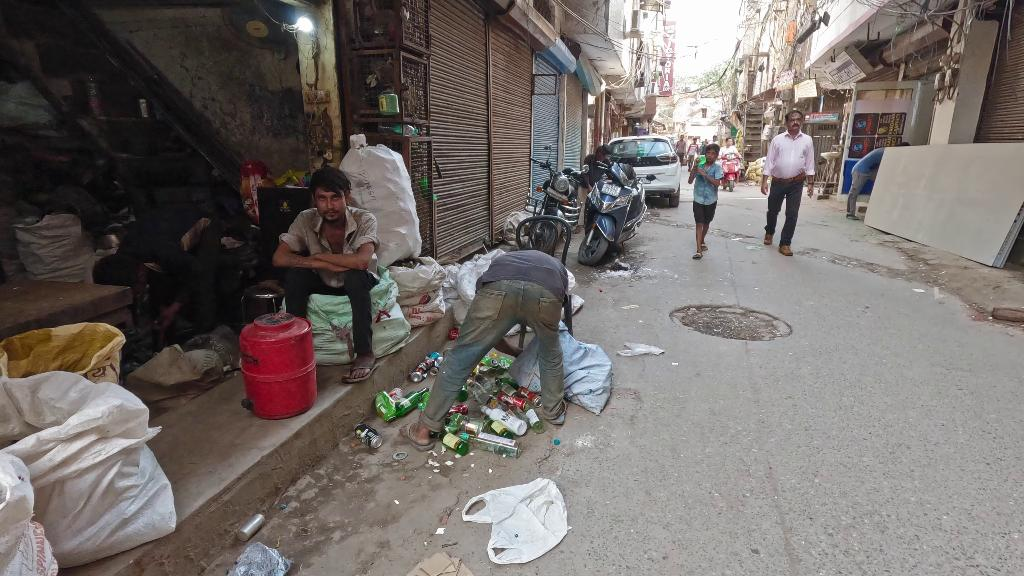garbage: (463, 472, 571, 570)
